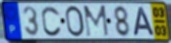3: (22, 5, 40, 38)
8: (113, 5, 131, 38)
A: (132, 6, 156, 37)
C: (41, 5, 63, 38)
M: (82, 4, 110, 39)
O: (64, 5, 86, 39)
